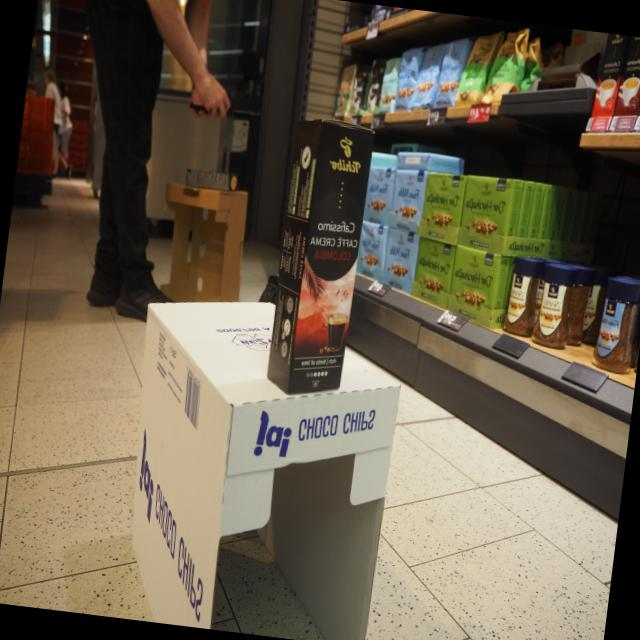Simo CC Colombia: (262, 117, 376, 399)
